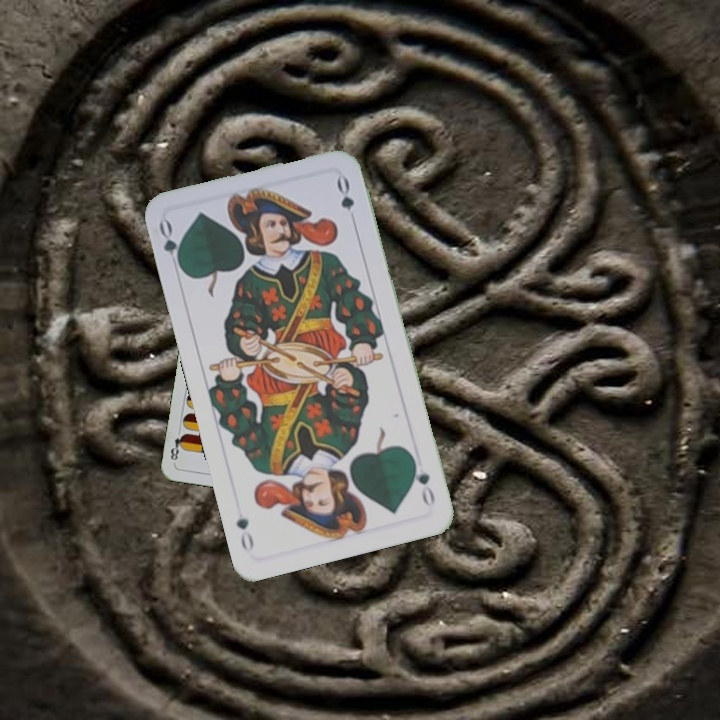GO: (154, 216, 186, 274), (408, 453, 438, 509)
